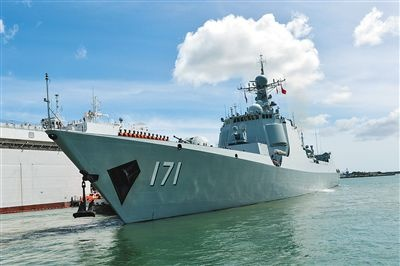warship: (41, 51, 341, 230)
